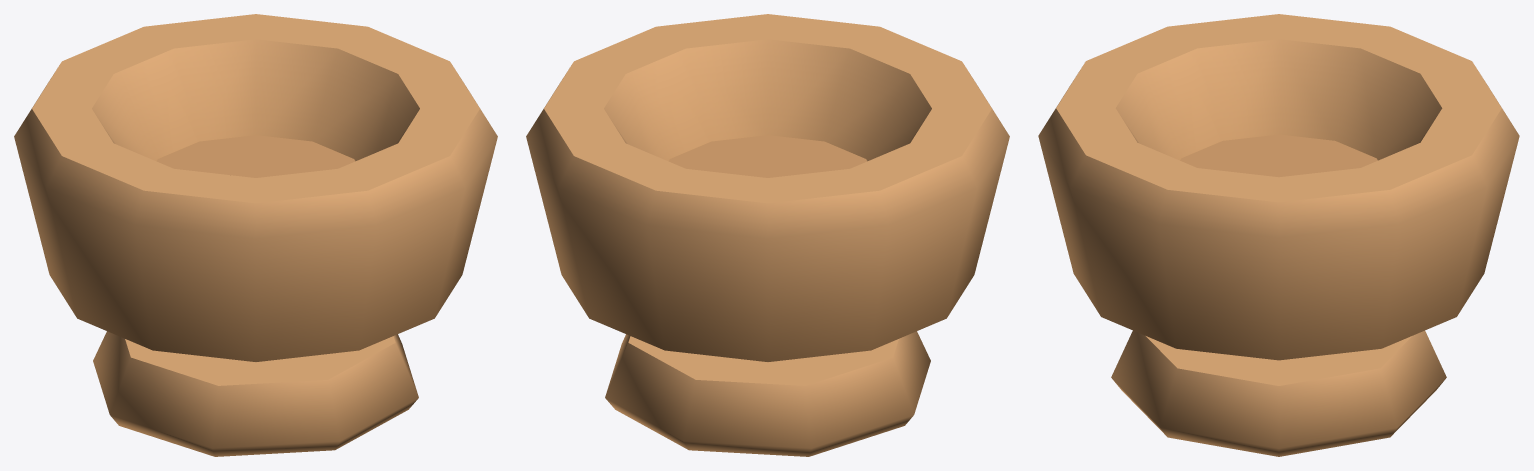
The model's file is detail-bowl.glb.
The picture shows the model from 3 angles, left to right: view 1: azimuth 30°, elevation 25°; view 2: azimuth 150°, elevation 25°; view 3: azimuth 270°, elevation 25°; orthographic projection.
Parts seen in each view (by area): view 1: detail-bowl; view 2: detail-bowl; view 3: detail-bowl.
Boxes of the visible parts, x1=… form: detail-bowl: x1=14, y1=14, x2=497, y2=456; detail-bowl: x1=526, y1=14, x2=1009, y2=456; detail-bowl: x1=1038, y1=14, x2=1519, y2=456.
Size of the model in its own units: 4.02 by 2.6 by 4.02.
1 material, 1 textured.
